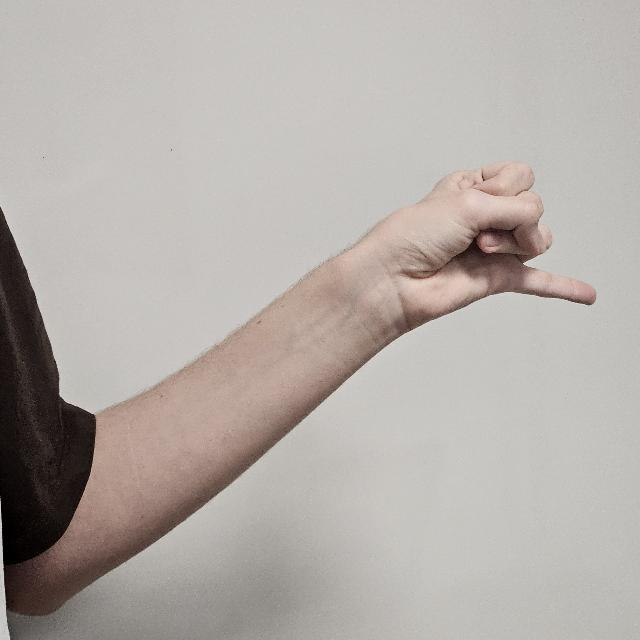Esquerda: (327, 136, 609, 362)
